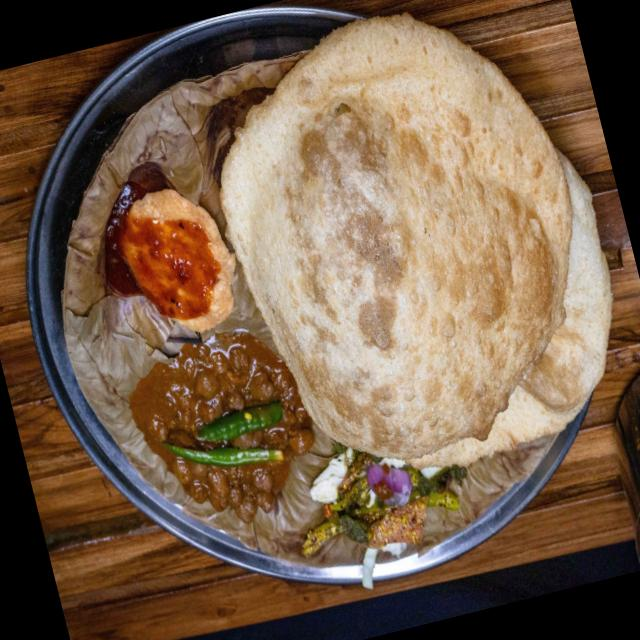Bhatura: (185, 0, 640, 507)
